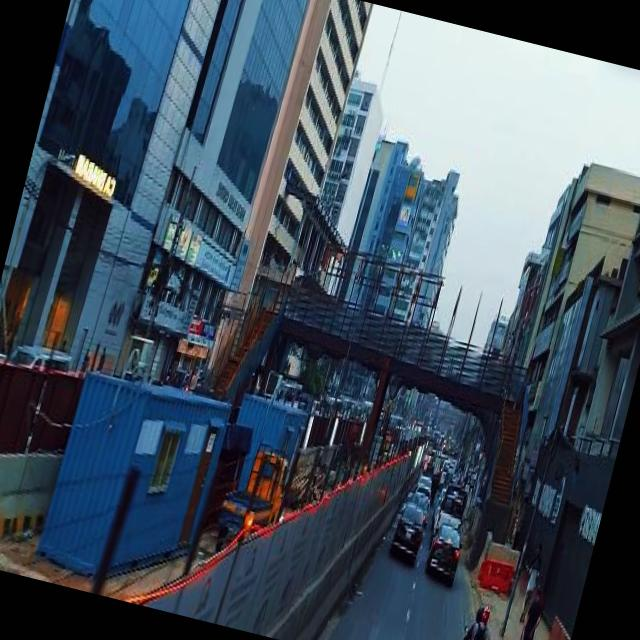car: (421, 516, 471, 589), (432, 474, 476, 542), (389, 496, 431, 566)
truck: (208, 434, 298, 568)
